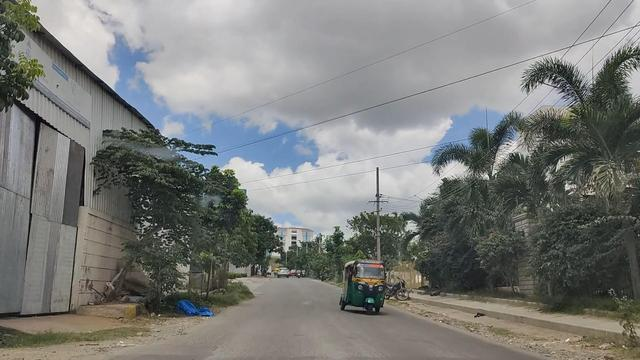LMV: (341, 257, 387, 318)
